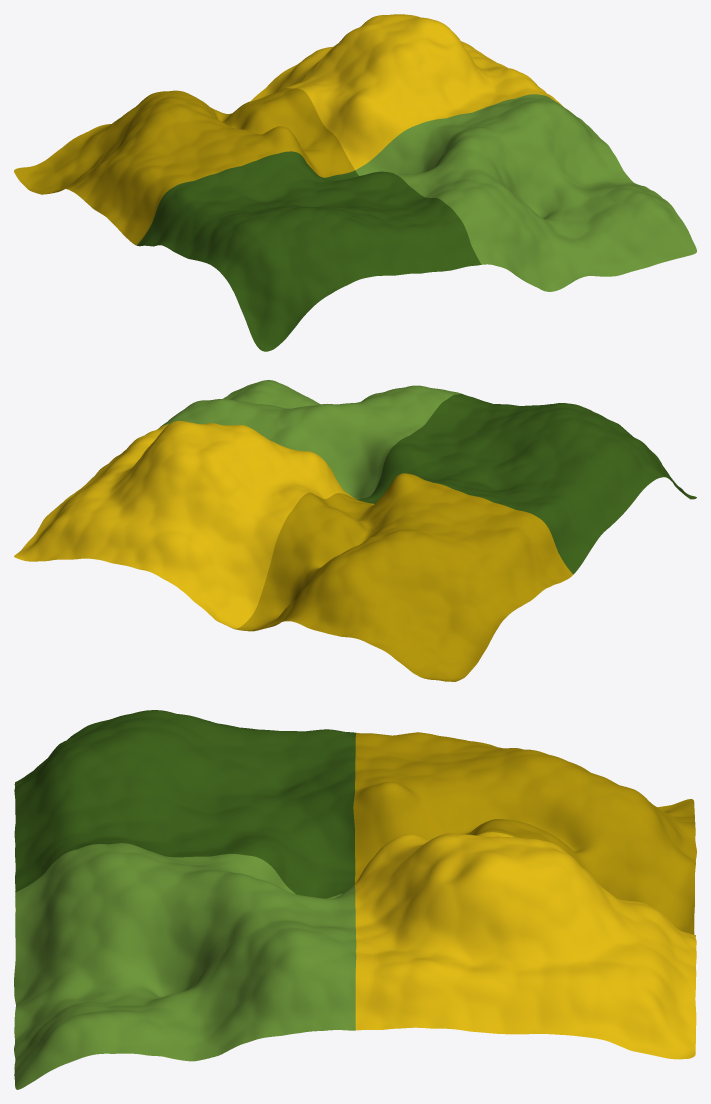
File: meadow_terrain.fbx
The picture shows the model from 3 angles, top to bottom: view 1: azimuth 30°, elevation 25°; view 2: azimuth 150°, elevation 25°; view 3: azimuth 270°, elevation 25°; orthographic projection. The views are drawn at different scales.
Parts seen in each view (by area): view 1: Cube; view 2: Cube; view 3: Cube.
Part boxes in pixels (box(x1,y1,x2,y2)): Cube: box(14, 14, 696, 351); Cube: box(14, 380, 696, 681); Cube: box(14, 710, 696, 1089).
Bounding box in the file's own units: 40.24 × 40.23 × 11.39.
